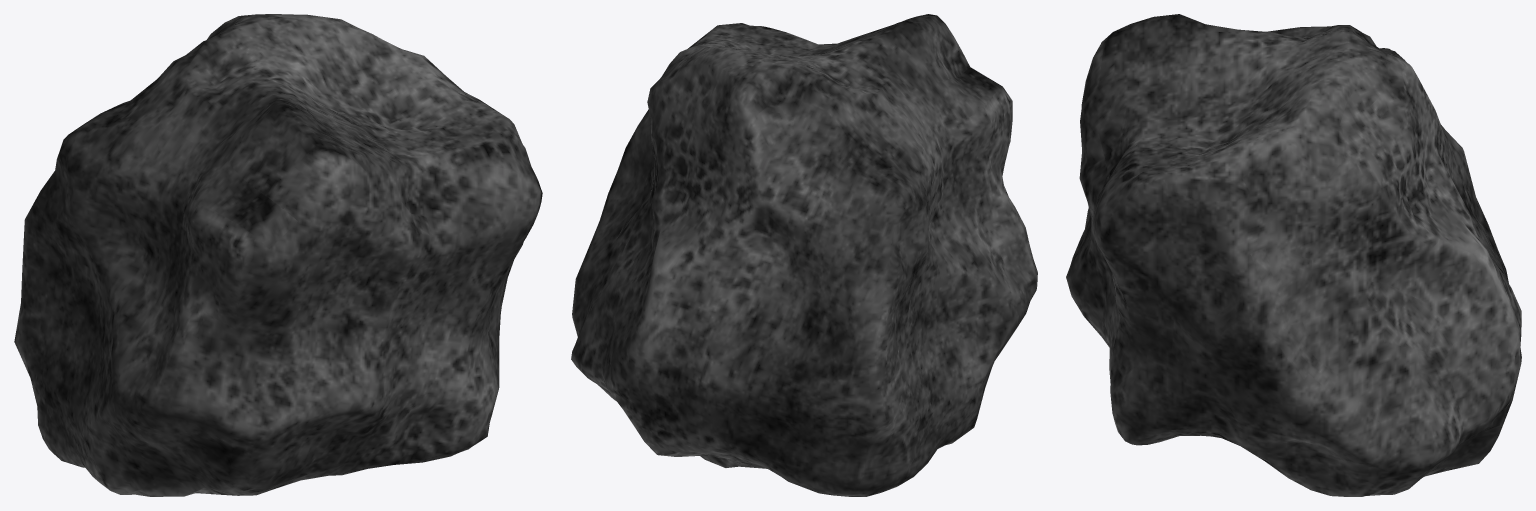
File: asteroid2.glb
3 renders of one model, left to right at view 1: azimuth 30°, elevation 25°; view 2: azimuth 150°, elevation 25°; view 3: azimuth 270°, elevation 25°, orthographic. The views are drawn at different scales.
Visible parts, largest first — view 1: Asteroid_no_1_Material #3_0; view 2: Asteroid_no_1_Material #3_0; view 3: Asteroid_no_1_Material #3_0.
Part boxes in pixels (<box>): Asteroid_no_1_Material #3_0: <box>14,14,542,496</box>; Asteroid_no_1_Material #3_0: <box>571,14,1037,496</box>; Asteroid_no_1_Material #3_0: <box>1066,14,1521,496</box>.
Bounding box in the file's own units: 8.59 × 8.44 × 8.11.
1 material, 1 textured.
